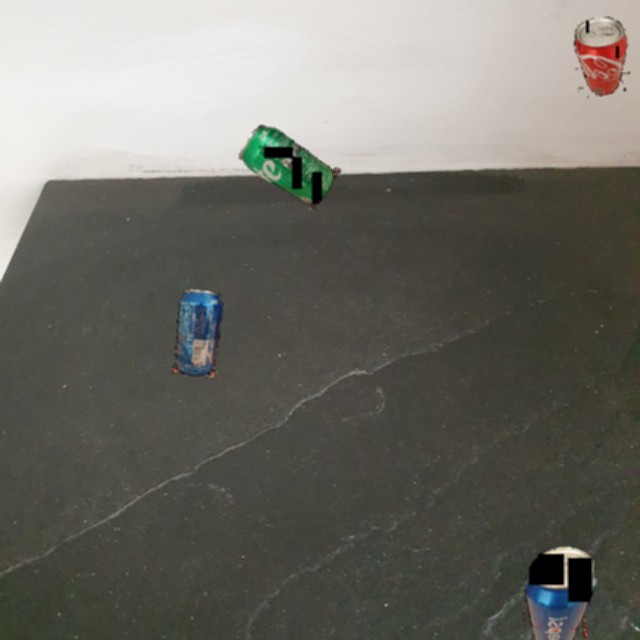coca cola: (573, 16, 633, 98)
pepsi: (520, 546, 599, 640), (172, 289, 224, 378)
sprite: (236, 119, 342, 210)
